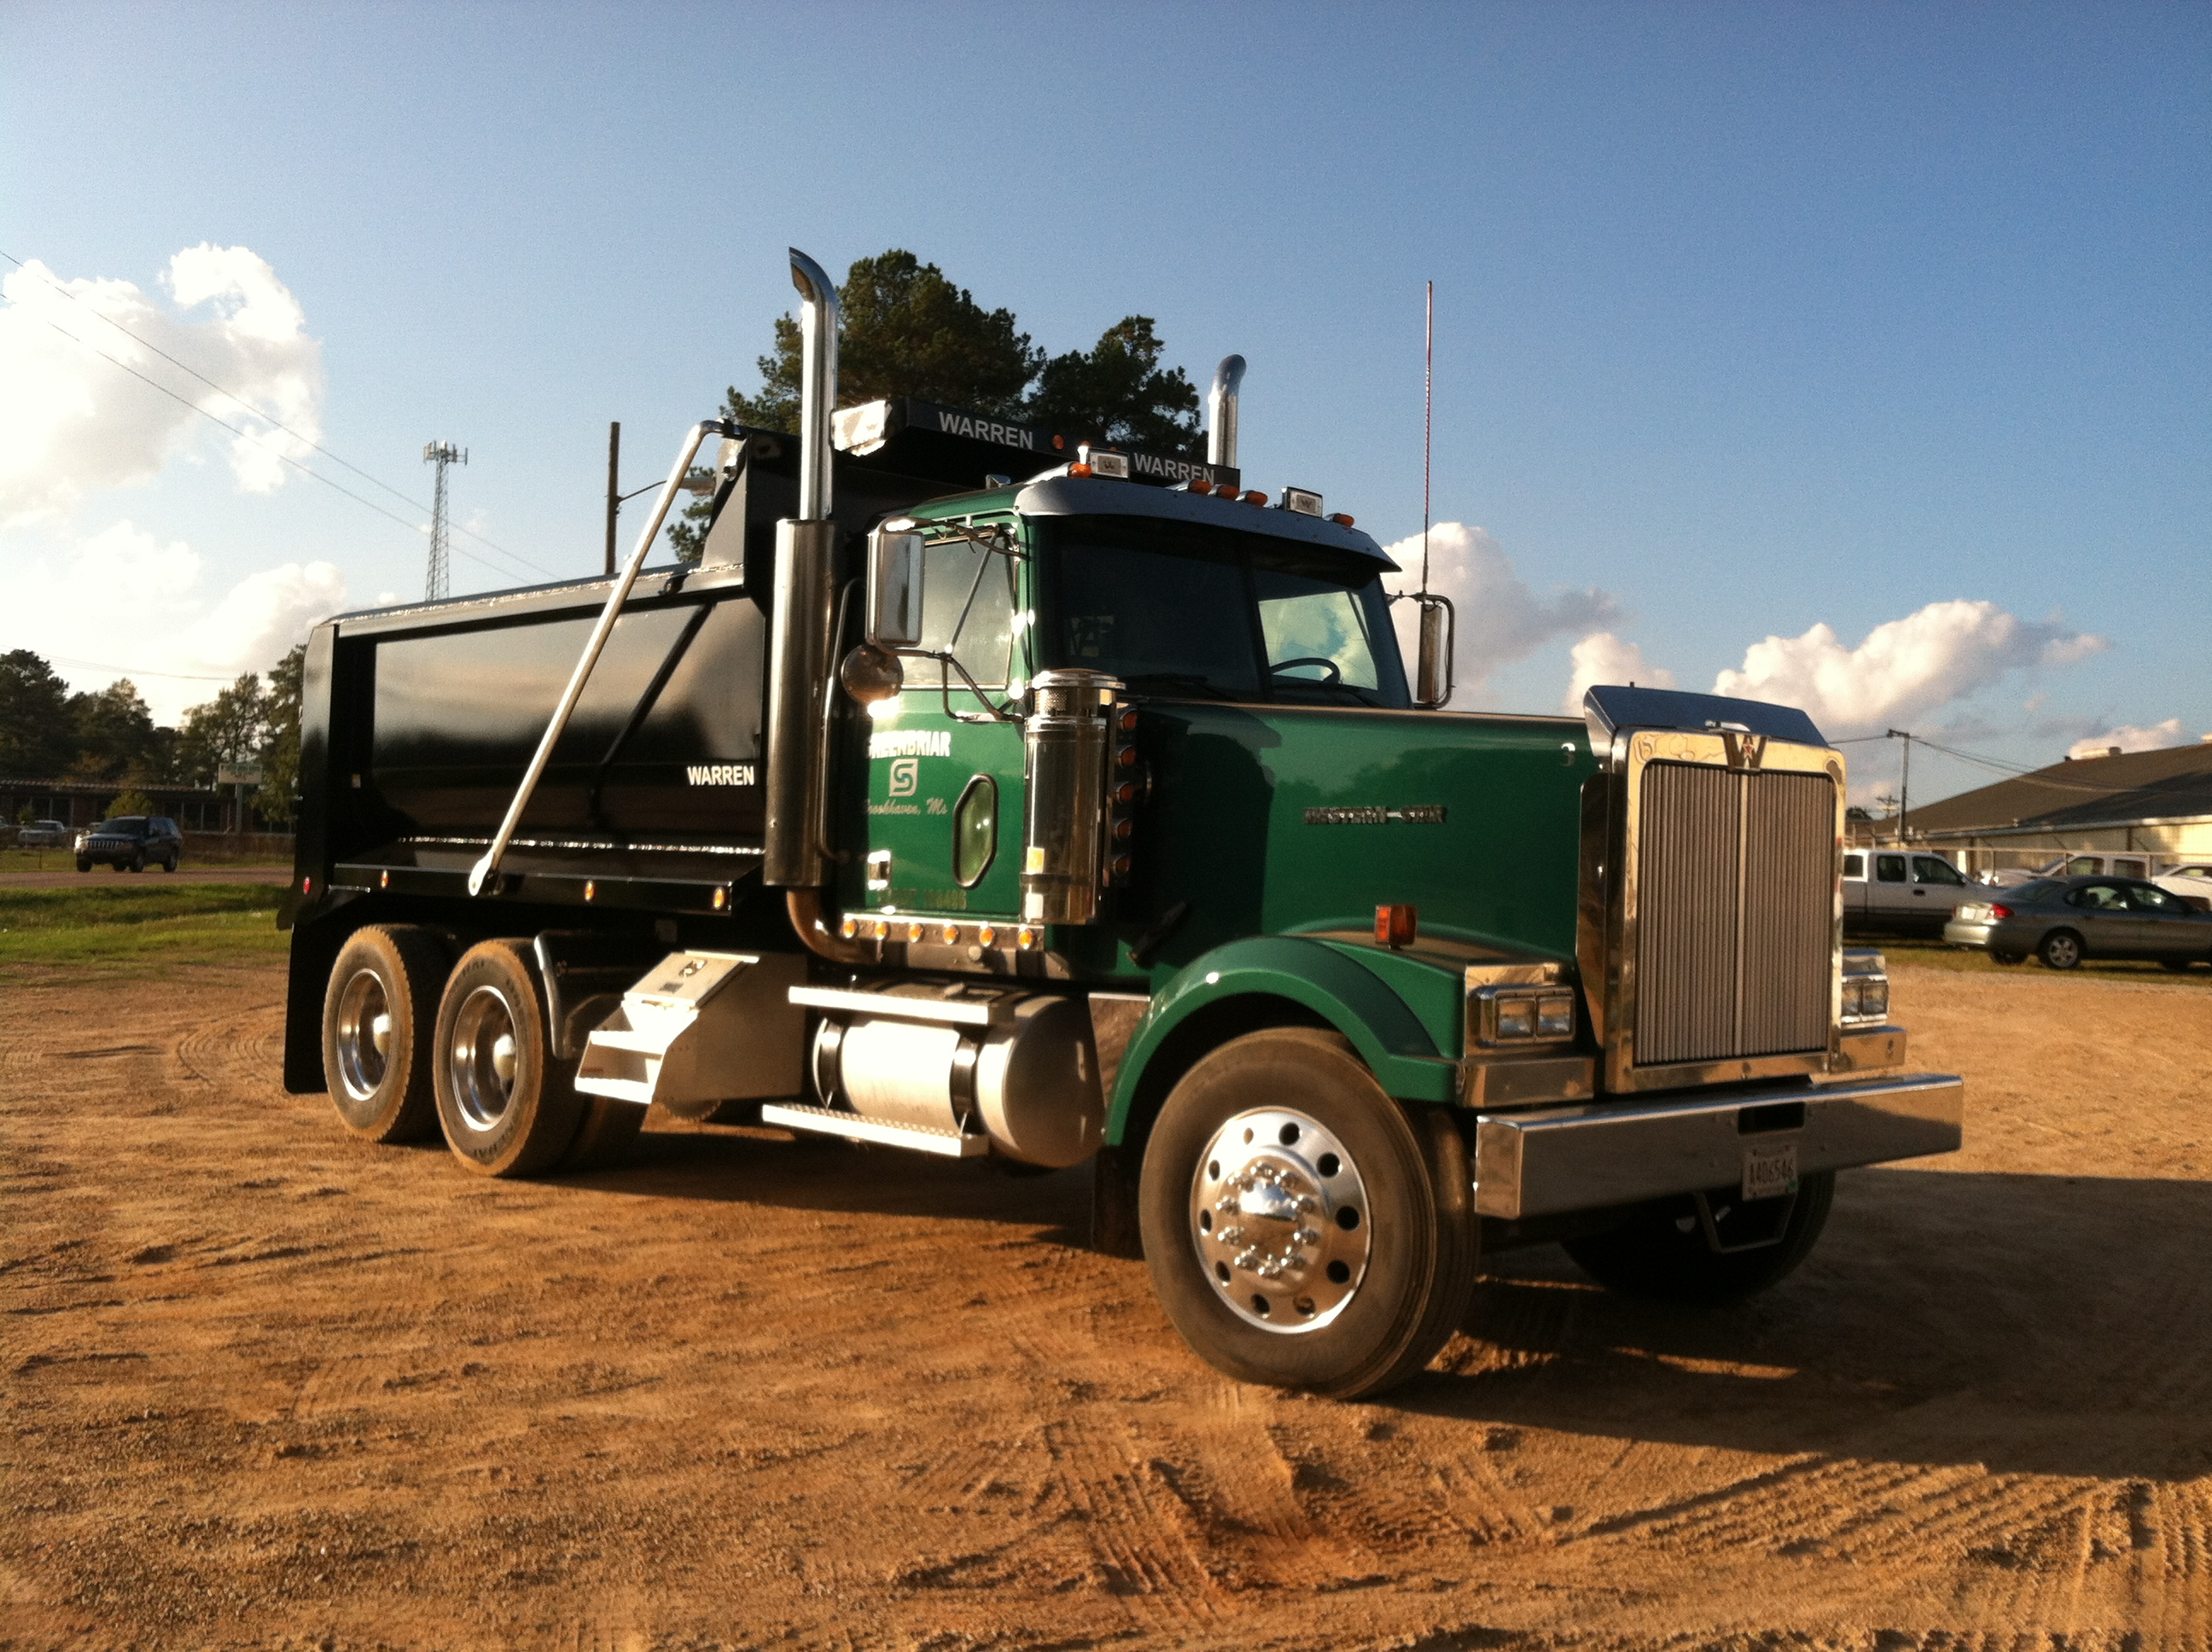truck: (317, 389, 1901, 1406)
